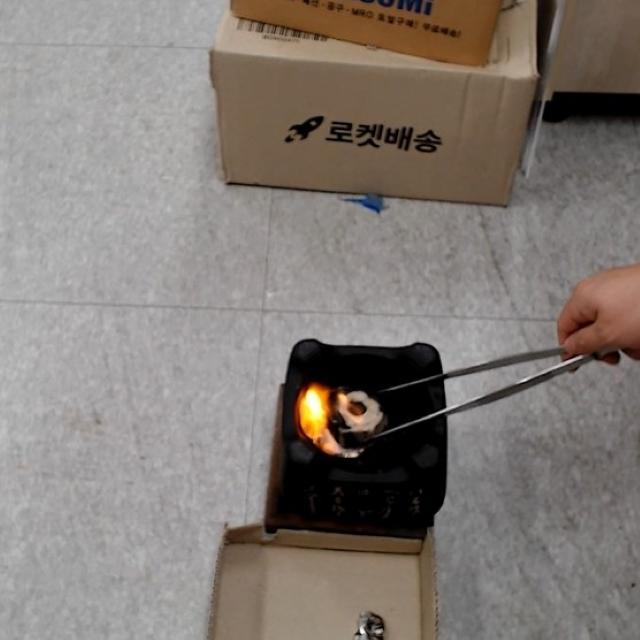Fire: (294, 381, 350, 449)
